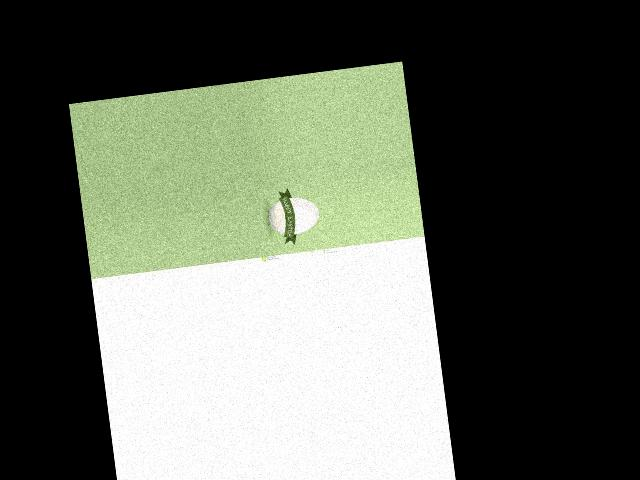egg: (266, 195, 321, 237)
